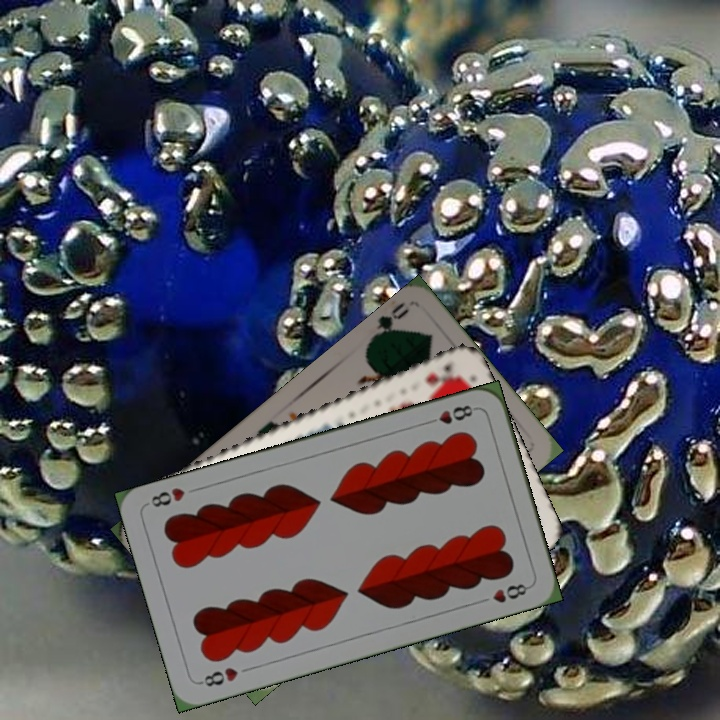GO: (365, 298, 412, 346)
H8: (422, 401, 480, 428), (195, 663, 241, 690)
HK: (422, 360, 462, 388)
